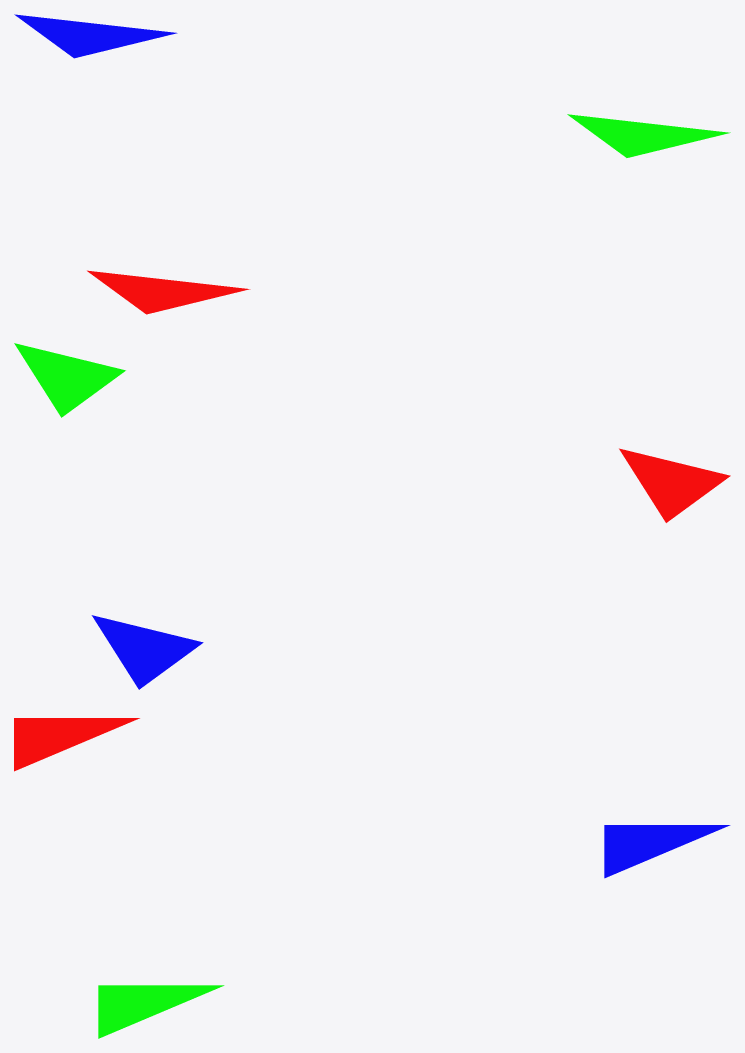
The model's file is source.glb.
3 renders of one model, top to bottom at view 1: azimuth 30°, elevation 25°; view 2: azimuth 150°, elevation 25°; view 3: azimuth 270°, elevation 25°, orthographic. The views are drawn at different scales.
Size of the model in its own units: 18 by 0 by 17.
